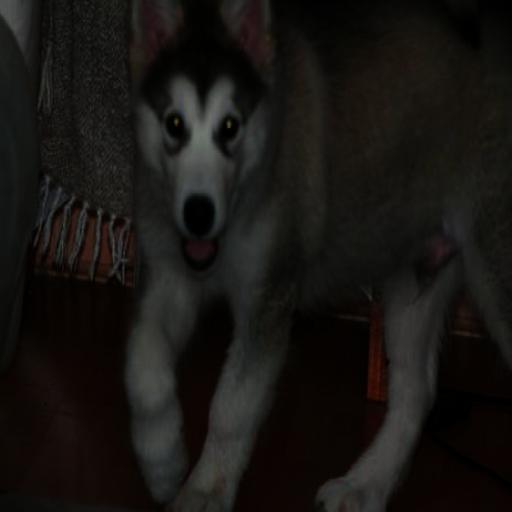dog_face: (126, 0, 275, 261)
